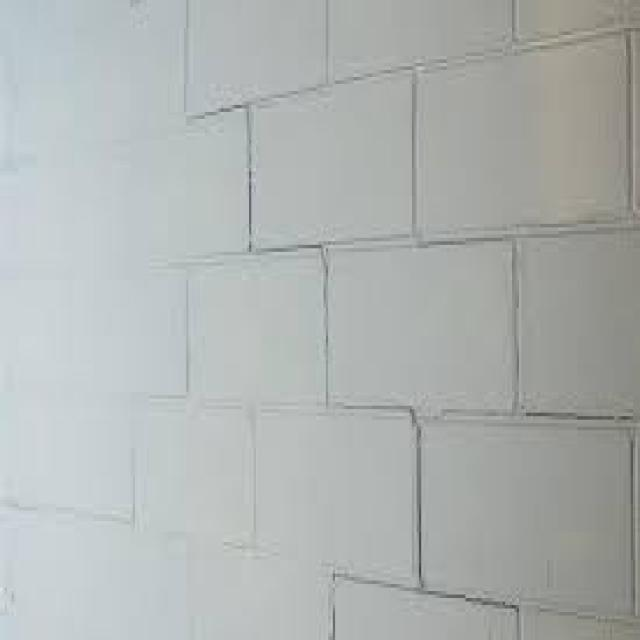Crack: (177, 0, 524, 637)
